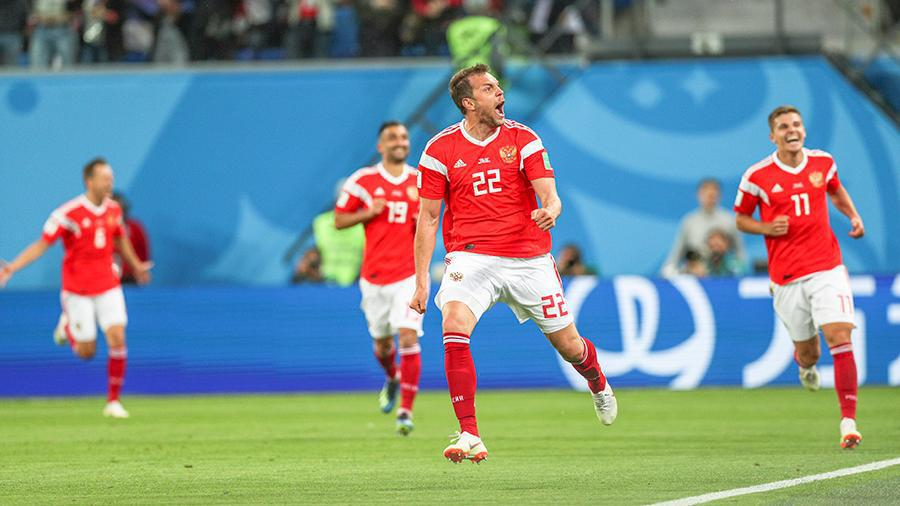player: (421, 56, 618, 465), (721, 94, 875, 449), (336, 111, 423, 440), (43, 146, 144, 415)
